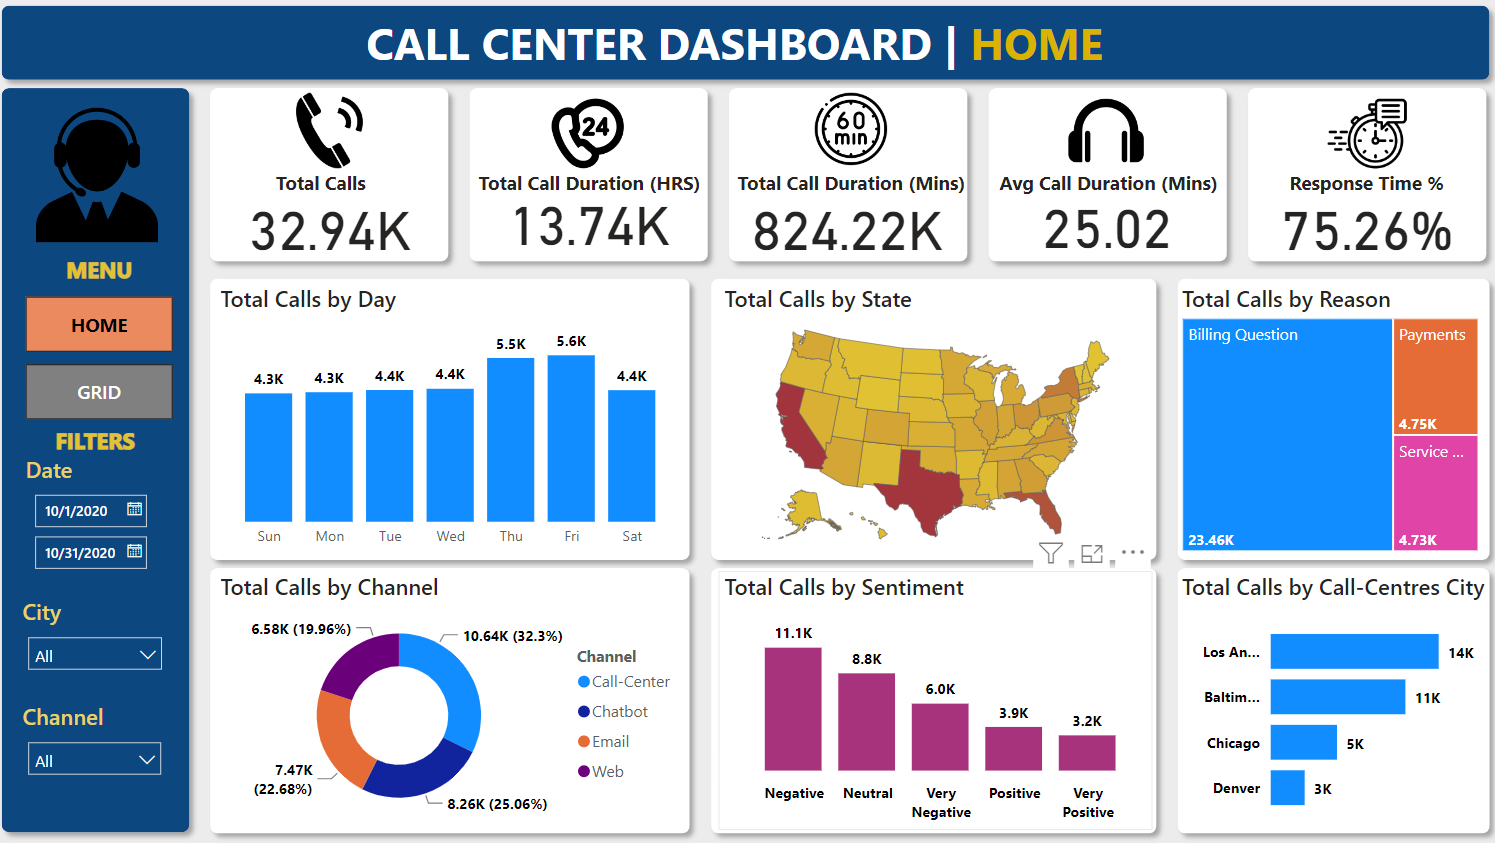

The dashboard page shown, as its layout file describes it:
{"tool":"powerbi","page":{"name":"HOME","canvas":[1280,720],"ordinal":0},"visuals":[{"type":"shape","box":[0,0,1280,81],"z":0},{"type":"shape","box":[0,70.3,177.2,649.2],"z":1000},{"type":"shape","box":[177.2,70.3,220,165],"z":2000},{"type":"shape","box":[397.1,70.3,220,165],"z":3000},{"type":"shape","box":[617.1,70.3,220,165],"z":4000},{"type":"shape","box":[837,70.3,220,165],"z":5000},{"type":"shape","box":[1057,70.3,220,165],"z":6000},{"type":"shape","box":[177.2,232.2,424.6,256.6],"z":7000},{"type":"shape","box":[177.2,476.6,424.6,242.9],"z":8000},{"type":"shape","box":[601.8,232.2,395.6,256.6],"z":9000},{"type":"shape","box":[997.4,232.2,282.6,256.6],"z":10000},{"type":"textbox","box":[297.9,10.7,666,59.6],"z":11000},{"type":"card","title":"Total Calls","fields":{"Values":["All Measures.Total Calls"]},"box":[204.7,166.5,165,56.5],"z":12000},{"type":"card","fields":{"Values":["All Measures.Total Call Duration (Mins)"]},"box":[633.9,166.5,184.8,56.5],"z":13000},{"type":"card","fields":{"Values":["All Measures.Total Call Duration (Hrs)"]},"box":[412.4,157.3,189.4,65.7],"z":14000},{"type":"card","fields":{"Values":["All Measures.Avg Call Duration(Mins)"]},"box":[846.2,163.4,200.1,59.6],"z":15000},{"type":"treemap","fields":{"Group":["Call Centre.Reason"],"Values":["All Measures.Total Calls"]},"box":[1005.1,244.4,261.2,232.2],"z":16000},{"type":"slicer","title":"City","fields":{"Values":["Call Centre.City"]},"box":[21,510.5,133.5,93.5],"z":17000},{"type":"card","fields":{"Values":["All Measures.Response Time%"]},"box":[1078.4,166.5,175.7,56.5],"z":18000},{"type":"shapeMap","fields":{"Category":["Call Centre.State"],"Value":["All Measures.Total Calls"]},"box":[617.1,244.3,367.7,231.6],"z":19000},{"type":"clusteredColumnChart","fields":{"Category":["Date Table.Day"],"Y":["All Measures.Total Calls"]},"box":[189.4,244.4,400.2,232.2],"z":20000},{"type":"shape","box":[997.4,476.6,282.6,242.9],"z":21000},{"type":"shape","box":[601.8,476.6,395.6,242.9],"z":22000},{"type":"clusteredColumnChart","fields":{"Category":["Call Centre.Sentiment"],"Y":["All Measures.Total Calls"]},"box":[617.1,488.8,368.1,220],"z":23000},{"type":"clusteredBarChart","fields":{"Category":["Call Centre.Call-Centres City"],"Y":["All Measures.Total Calls"]},"box":[1005.1,488.8,267.3,220],"z":24000},{"type":"textbox","box":[189.4,142.1,180.2,42.8],"z":25000},{"type":"textbox","box":[392.6,142.1,229.1,42.8],"z":26000},{"type":"textbox","box":[621.7,142.1,215.4,42.8],"z":27000},{"type":"textbox","box":[818.7,142.1,259.7,42.8],"z":28000},{"type":"textbox","box":[1078.4,142.1,175.7,42.8],"z":29000},{"type":"slicer","title":"Date","fields":{"Values":["Date Table.Date"]},"box":[24.2,390,133.5,120.9],"z":30000},{"type":"slicer","title":"Channel","fields":{"Values":["Call Centre.Channel"]},"box":[21.4,598.8,132.9,91.6],"z":31000},{"type":"donutChart","fields":{"Y":["All Measures.Total Calls"],"Category":["Call Centre.Channel"]},"box":[189.4,488.8,400.2,220],"z":32000},{"type":"pageNavigator","title":"MENU","box":[29.4,255.4,125.1,105.1],"z":33000},{"type":"textbox","box":[29.4,214.4,125.1,41],"z":34000},{"type":"textbox","box":[21,360.5,133.5,34.7],"z":35000},{"type":"image","box":[248.1,77.8,77.8,74.6],"z":36000},{"type":"image","box":[693.7,77.8,71.5,71.5],"z":37000},{"type":"image","box":[1126.8,77.8,79.9,79.9],"z":38000},{"type":"image","box":[907.1,77.8,77.8,74.6],"z":39000},{"type":"image","box":[469.8,80.9,73.6,71.5],"z":40000},{"type":"image","box":[21,90.4,136.6,124],"z":41000}]}

Visuals, with their boxes in screenshot pixels (x1, y1, x2, y2), scaled from the page's 1280x720 canvas onto the 1495x843 screenshot:
shape: detection(0, 0, 1494, 95)
shape: detection(0, 82, 207, 842)
shape: detection(207, 82, 464, 275)
shape: detection(464, 82, 721, 275)
shape: detection(721, 82, 978, 275)
shape: detection(978, 82, 1235, 275)
shape: detection(1235, 82, 1491, 275)
shape: detection(207, 272, 703, 572)
shape: detection(207, 558, 703, 842)
shape: detection(703, 272, 1165, 572)
shape: detection(1165, 272, 1494, 572)
textbox: detection(348, 13, 1126, 82)
"Total Calls" card: detection(239, 195, 432, 261)
card - All Measures.Total Call Duration (Mins): detection(740, 195, 956, 261)
card - All Measures.Total Call Duration (Hrs): detection(482, 184, 703, 261)
card - All Measures.Avg Call Duration(Mins): detection(988, 191, 1222, 261)
treemap - Call Centre.Reason x All Measures.Total Calls: detection(1174, 286, 1479, 558)
"City" slicer: detection(25, 598, 180, 707)
card - All Measures.Response Time%: detection(1260, 195, 1465, 261)
shapeMap - Call Centre.State x All Measures.Total Calls: detection(721, 286, 1150, 557)
clusteredColumnChart - Date Table.Day x All Measures.Total Calls: detection(221, 286, 689, 558)
shape: detection(1165, 558, 1494, 842)
shape: detection(703, 558, 1165, 842)
clusteredColumnChart - Call Centre.Sentiment x All Measures.Total Calls: detection(721, 572, 1151, 830)
clusteredBarChart - Call Centre.Call-Centres City x All Measures.Total Calls: detection(1174, 572, 1486, 830)
textbox: detection(221, 166, 432, 216)
textbox: detection(459, 166, 726, 216)
textbox: detection(726, 166, 978, 216)
textbox: detection(956, 166, 1260, 216)
textbox: detection(1260, 166, 1465, 216)
"Date" slicer: detection(28, 457, 184, 598)
"Channel" slicer: detection(25, 701, 180, 808)
donutChart - All Measures.Total Calls x Call Centre.Channel: detection(221, 572, 689, 830)
"MENU" pageNavigator: detection(34, 299, 180, 422)
textbox: detection(34, 251, 180, 299)
textbox: detection(25, 422, 180, 463)
image: detection(290, 91, 381, 178)
image: detection(810, 91, 894, 175)
image: detection(1316, 91, 1409, 185)
image: detection(1059, 91, 1150, 178)
image: detection(549, 95, 635, 178)
image: detection(25, 106, 184, 251)
